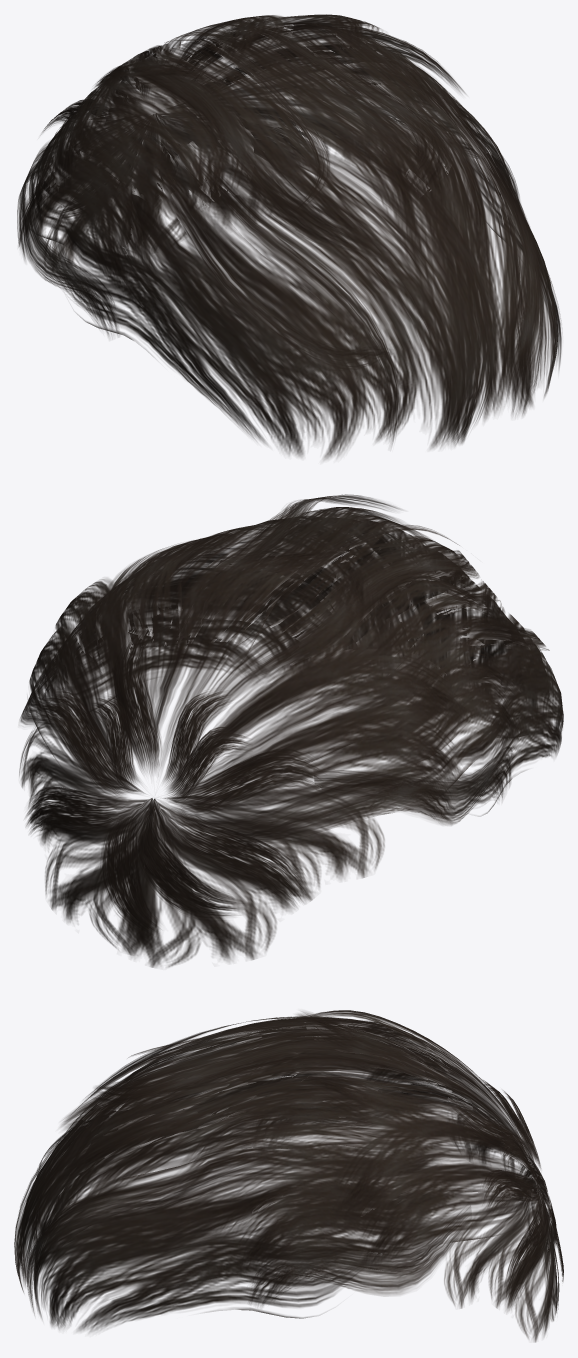
File: Round_Wavy_FrenchCrop.glb
The picture shows the model from 3 angles, top to bottom: view 1: azimuth 30°, elevation 25°; view 2: azimuth 150°, elevation 25°; view 3: azimuth 270°, elevation 25°; orthographic projection. The views are drawn at different scales.
Parts seen in each view (by area): view 1: s4studio_mesh_4.001; view 2: s4studio_mesh_4.001; view 3: s4studio_mesh_4.001.
Part boxes in pixels (x1=…): s4studio_mesh_4.001: x1=17, y1=14, x2=561, y2=460; s4studio_mesh_4.001: x1=19, y1=494, x2=563, y2=967; s4studio_mesh_4.001: x1=14, y1=1010, x2=563, y2=1342.
Size of the model in its own units: 0.1803 by 0.1289 by 0.2267.
1 material, 1 textured.
